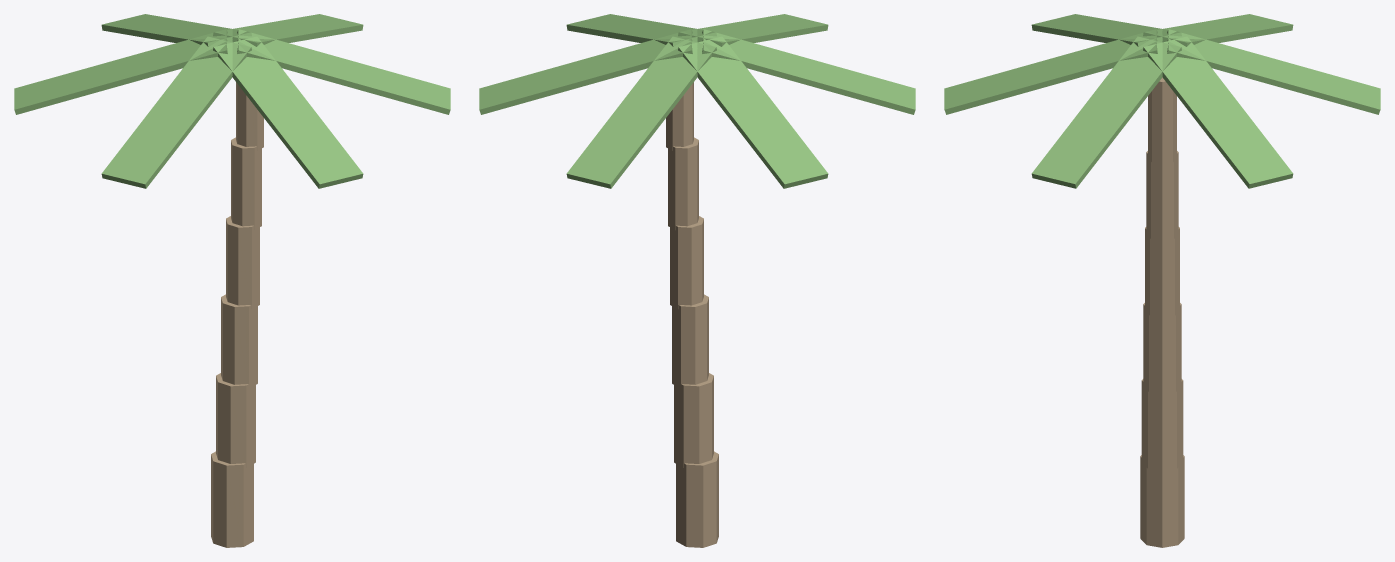
File: SD_Palm.fbx
3 renders of one model, left to right at view 1: azimuth 30°, elevation 25°; view 2: azimuth 150°, elevation 25°; view 3: azimuth 270°, elevation 25°, orthographic.
Parts seen in each view (by area): view 1: SD_Palm; view 2: SD_Palm; view 3: SD_Palm.
Boxes of the visible parts, left/top/right/bottom form: SD_Palm: left=14, top=14, right=450, bottom=547; SD_Palm: left=479, top=14, right=915, bottom=547; SD_Palm: left=944, top=14, right=1380, bottom=547.
Size of the model in its own units: 3.99 by 5.45 by 4.32.
